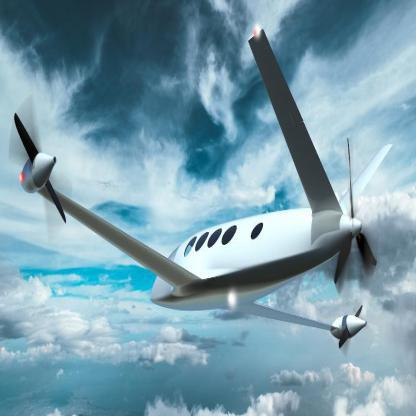CIV_Plane: (3, 24, 396, 352)
